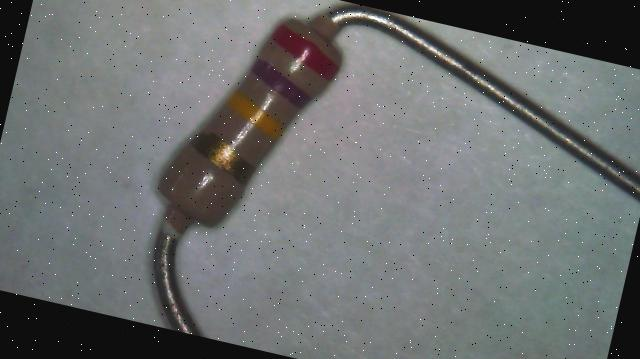gold: (193, 130, 259, 180)
red: (264, 22, 346, 82)
resistor: (126, 0, 376, 253)
violet: (246, 58, 318, 110)
yellow: (222, 88, 290, 140)
